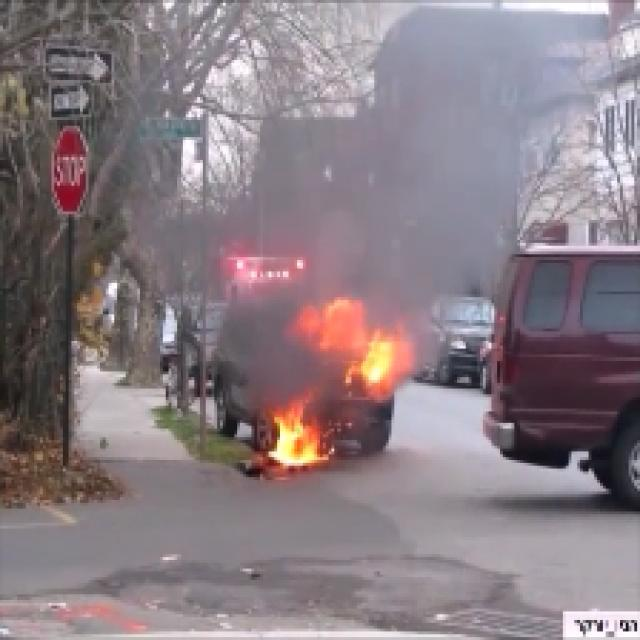fire: (269, 412, 323, 468)
smoke: (346, 98, 494, 279), (228, 287, 295, 397)
